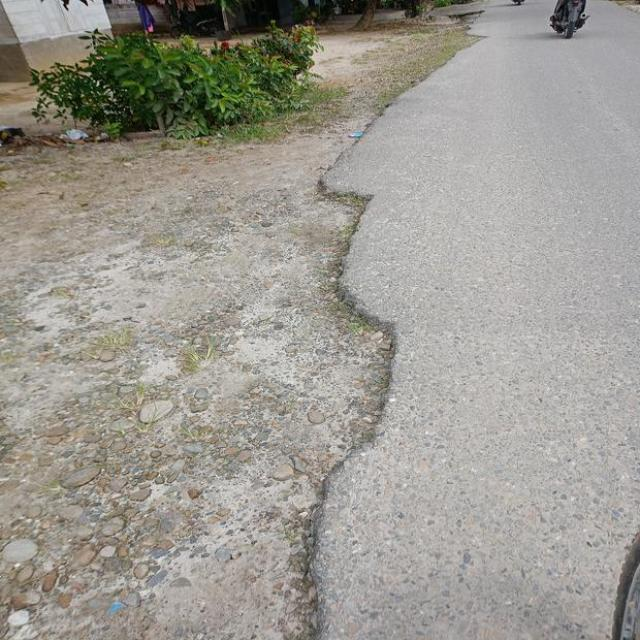Pinggir: (277, 89, 409, 640)
